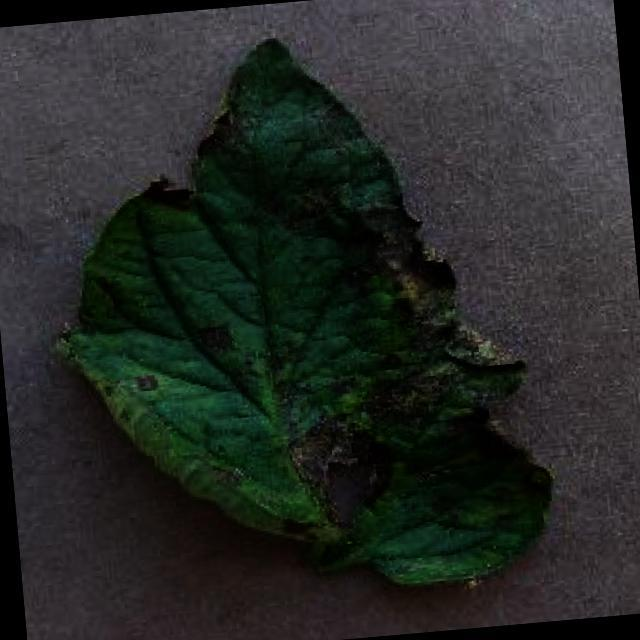Tomato Early blight leaf: (32, 14, 554, 626)
